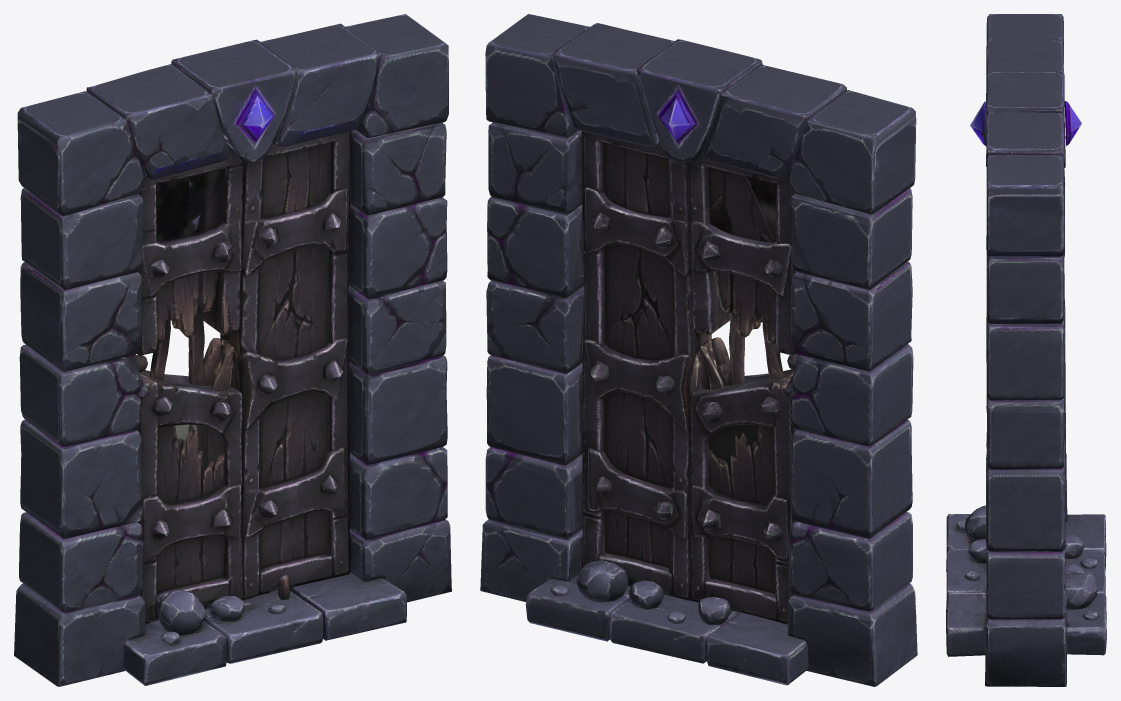
The model's file is door_damaged.glb.
3 views of the same model, side by side, from view 1: azimuth 30°, elevation 25°; view 2: azimuth 150°, elevation 25°; view 3: azimuth 270°, elevation 25° (orthographic). The views are drawn at different scales.
Size of the model in its own units: 0.7422 by 1 by 0.2861.
Materials: 1 (1 with a texture image).
